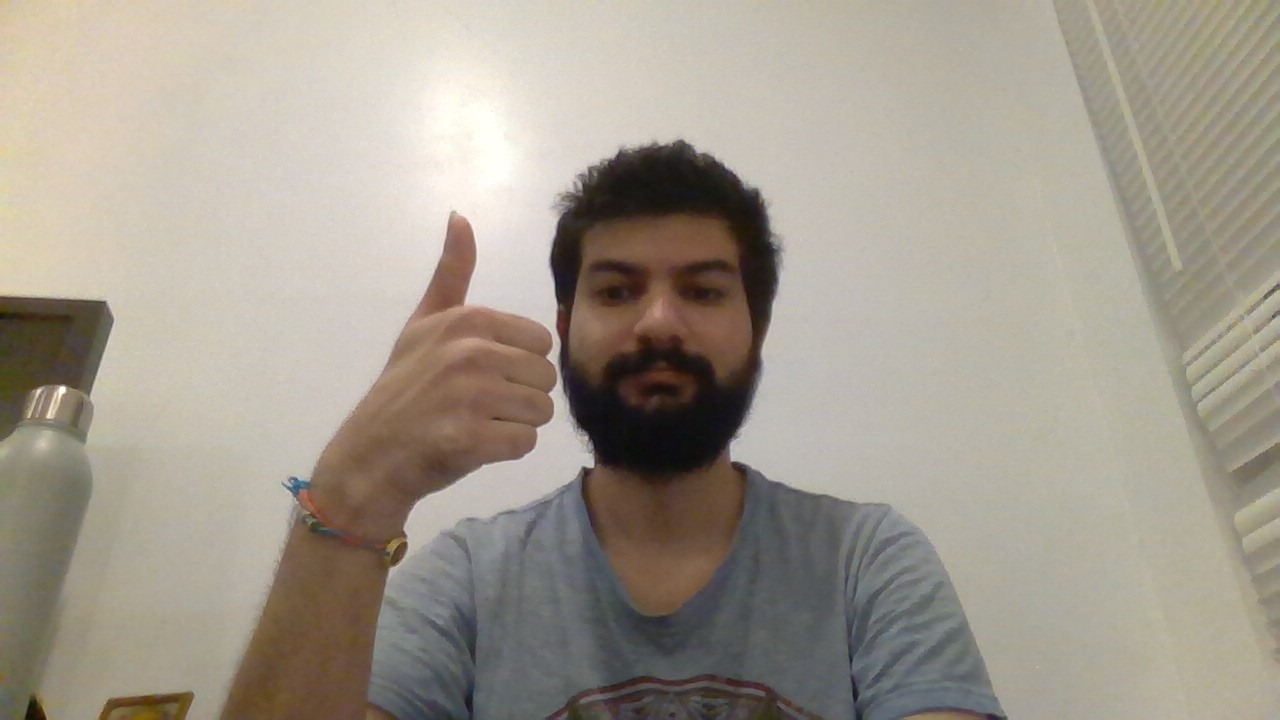up: (368, 200, 566, 476)
